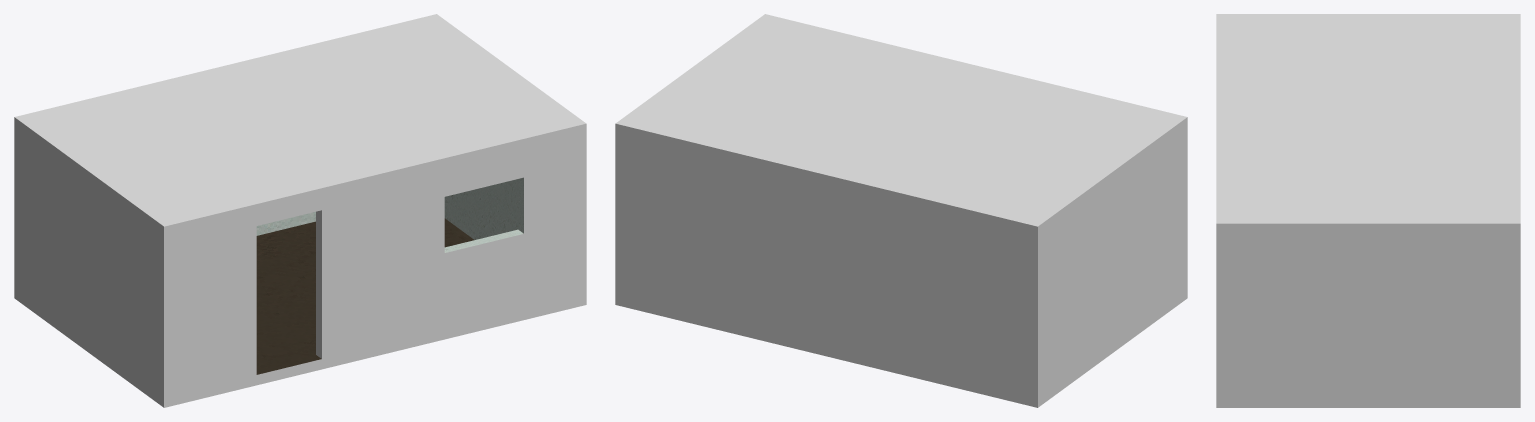
Rendered from EndRoom.glb.
3 renders of one model, left to right at view 1: azimuth 30°, elevation 25°; view 2: azimuth 150°, elevation 25°; view 3: azimuth 270°, elevation 25°, orthographic.
Visible parts, largest first — view 1: Ca; view 2: Ca; view 3: Ca.
Boxes of the visible parts, box(x1,y1,x2,y2) form: Ca: box(14, 14, 586, 407); Ca: box(615, 14, 1187, 407); Ca: box(1216, 14, 1520, 407).
Bounding box in the file's own units: 12.95 × 5.31 × 7.95.
Materials: 1 (1 with a texture image).
